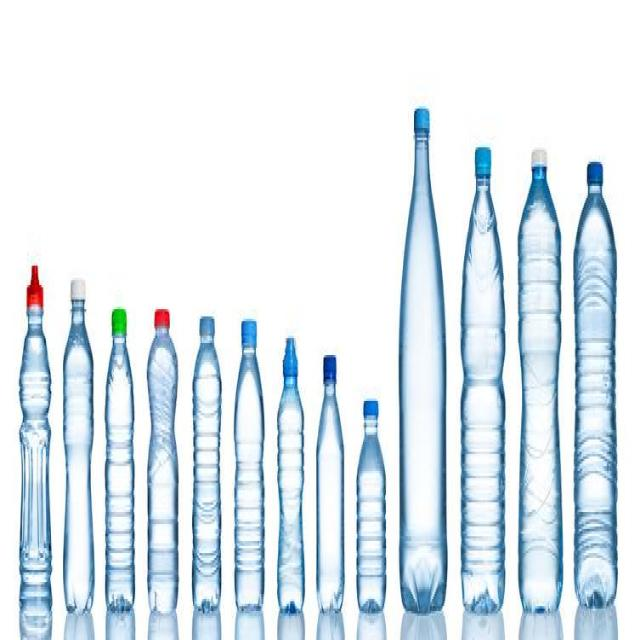plastic_bottle: (396, 111, 449, 613), (518, 150, 566, 616), (461, 141, 507, 617), (574, 163, 620, 614), (64, 287, 95, 621), (105, 307, 138, 618), (148, 313, 179, 622), (24, 272, 50, 636), (235, 317, 266, 617), (276, 332, 308, 622), (194, 321, 222, 618), (316, 351, 347, 619), (358, 397, 388, 617)
